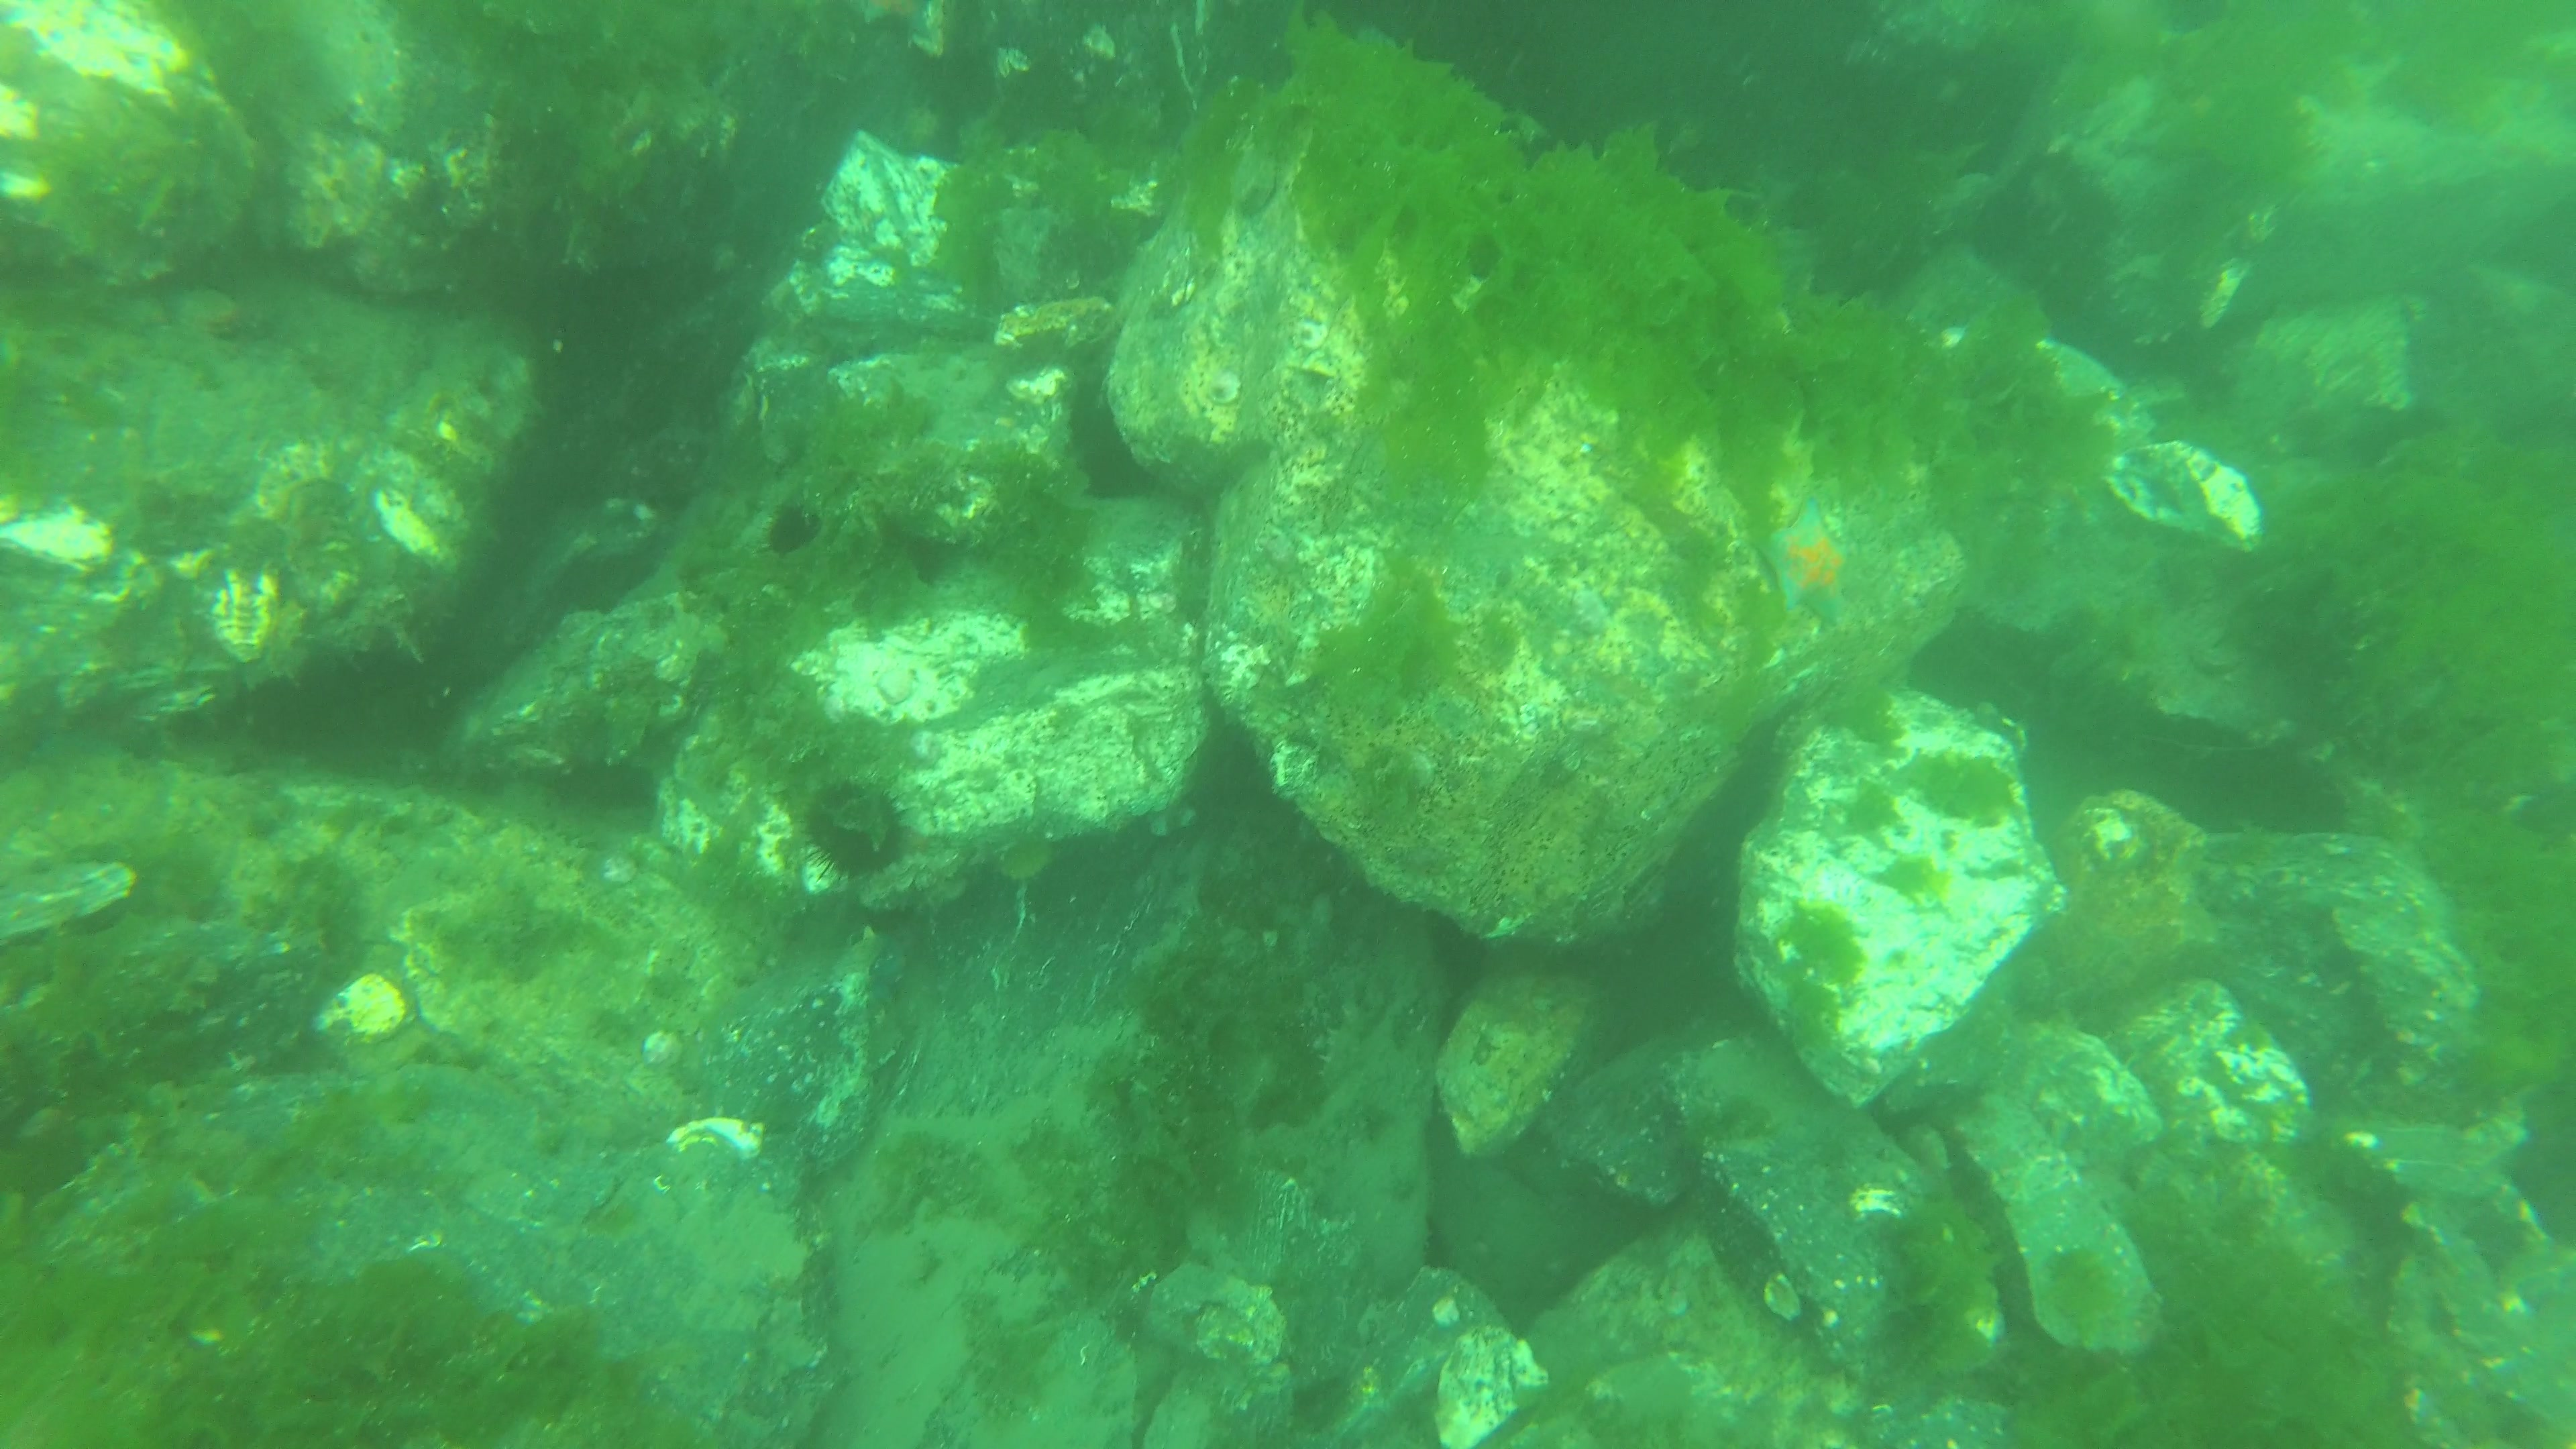echinus: (801, 766, 915, 885), (757, 497, 830, 564)
starfish: (1746, 497, 1863, 626)
